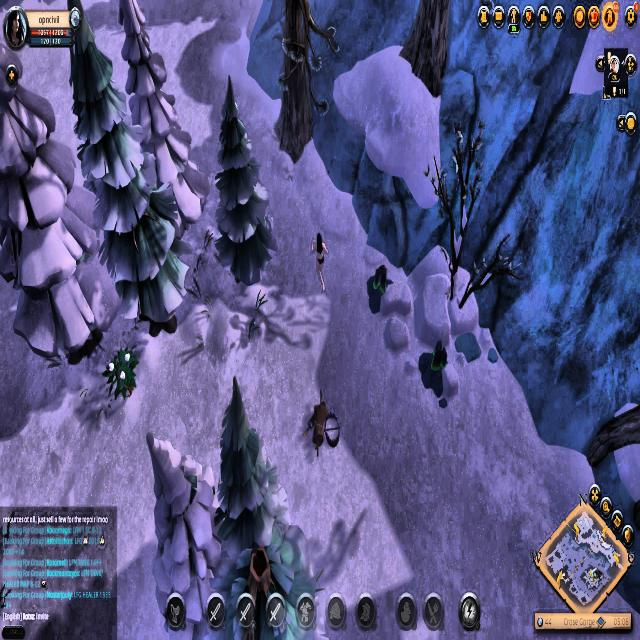flax: (102, 341, 142, 412)
tin_ore: (414, 332, 453, 405), (364, 261, 396, 317)
